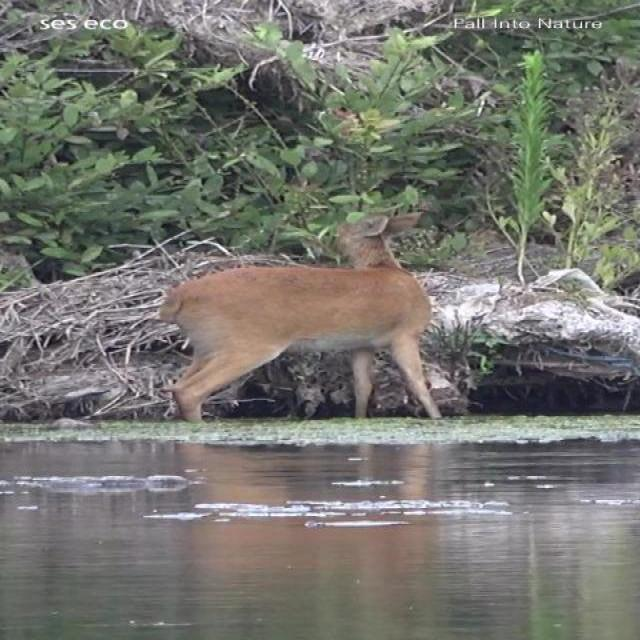deer: (153, 205, 450, 418)
